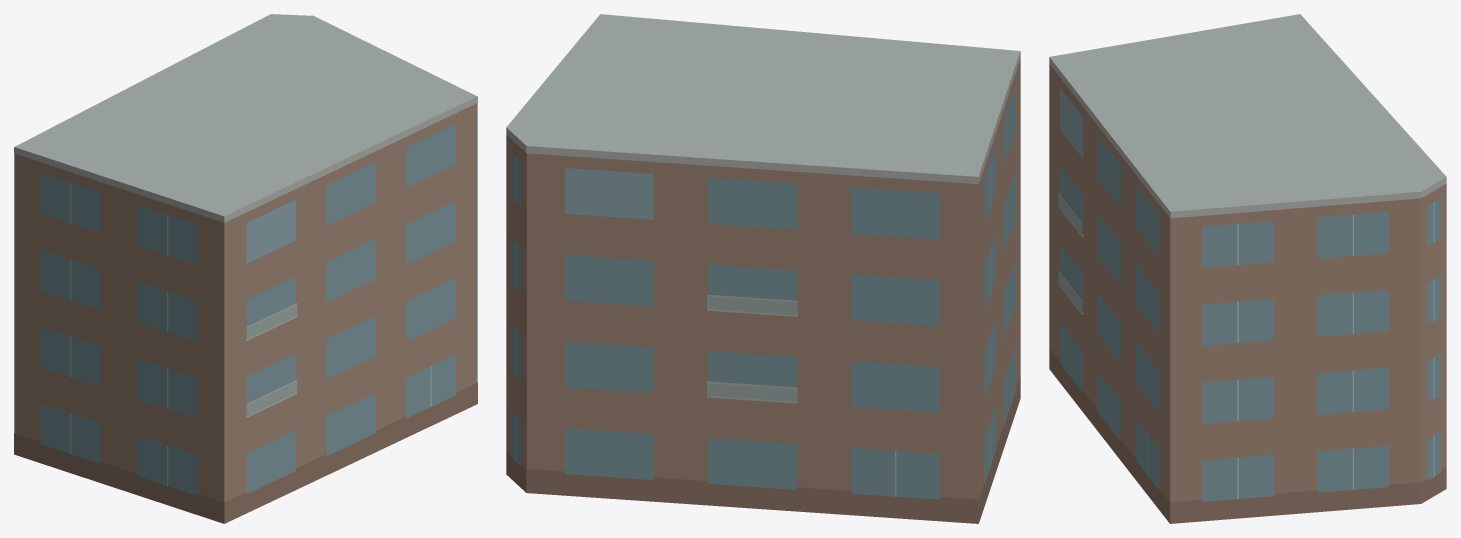
Rendered from survey-upis-32755975.glb.
3 renders of one model, left to right at view 1: azimuth 30°, elevation 25°; view 2: azimuth 150°, elevation 25°; view 3: azimuth 270°, elevation 25°, orthographic. The views are drawn at different scales.
Visible parts, largest first — view 1: survey-upis-32755975.tmp; view 2: survey-upis-32755975.tmp; view 3: survey-upis-32755975.tmp.
Part boxes in pixels (left/top/right/bottom): survey-upis-32755975.tmp: left=14, top=14, right=477, bottom=523; survey-upis-32755975.tmp: left=506, top=14, right=1020, bottom=523; survey-upis-32755975.tmp: left=1049, top=14, right=1446, bottom=523.
Bounding box in the file's own units: 15.78 × 11.6 × 13.4.
